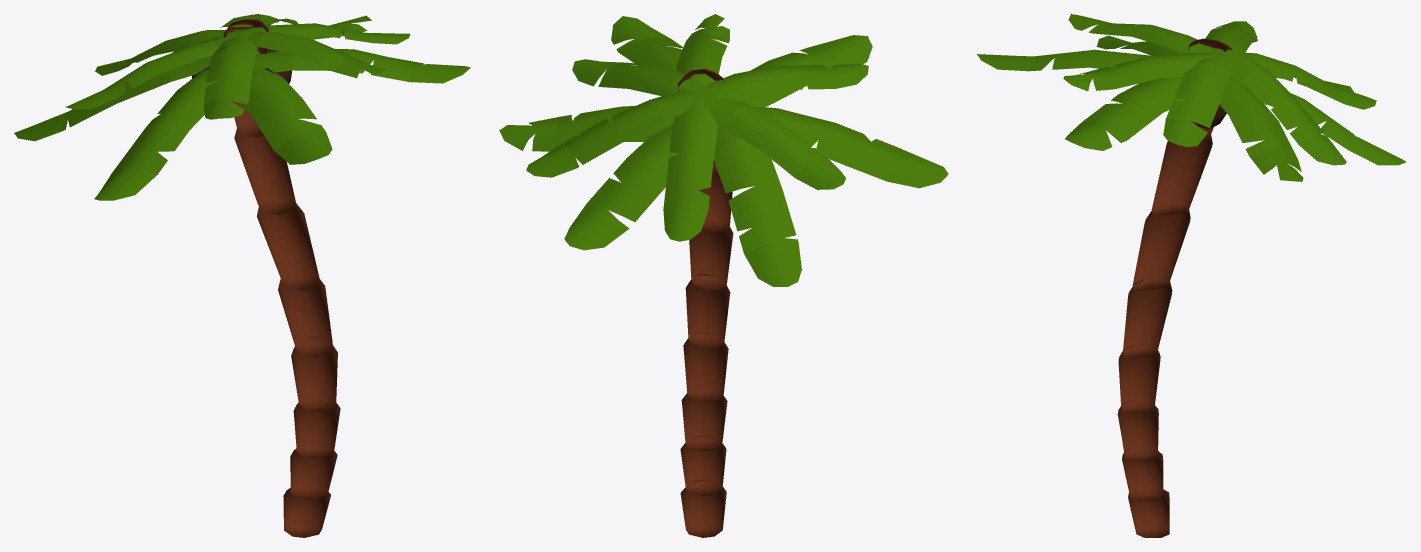
The model's file is palm_asset.fbx.
3 renders of one model, left to right at view 1: azimuth 30°, elevation 25°; view 2: azimuth 150°, elevation 25°; view 3: azimuth 270°, elevation 25°, orthographic. The views are drawn at different scales.
Visible parts, largest first — view 1: Palmleafs, Palmtrunk; view 2: Palmleafs, Palmtrunk; view 3: Palmleafs, Palmtrunk.
Part boxes in pixels (left/top/right/bottom): Palmleafs: left=14, top=14, right=470, bottom=200; Palmtrunk: left=223, top=19, right=340, bottom=537; Palmleafs: left=499, top=14, right=948, bottom=286; Palmtrunk: left=677, top=68, right=733, bottom=537; Palmleafs: left=977, top=14, right=1406, bottom=181; Palmtrunk: left=1117, top=38, right=1232, bottom=537.
Size of the model in its own units: 16.88 by 21.85 by 17.91.
